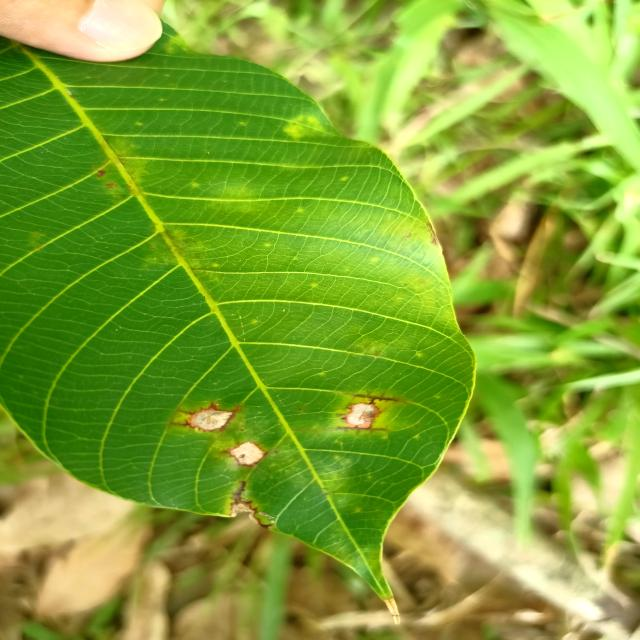Corynespora: (227, 480, 271, 529), (350, 392, 400, 406), (329, 425, 388, 435)
Leaf-Blight: (188, 410, 233, 430), (346, 404, 379, 428), (232, 442, 264, 466)
